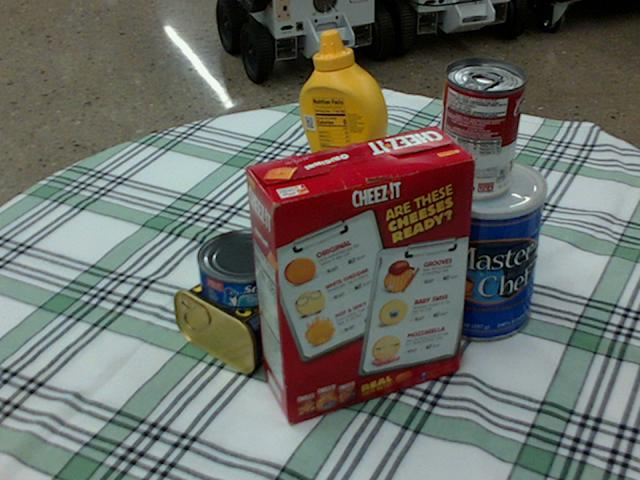cracker_box: (244, 126, 474, 423)
gelatin_box: (287, 176, 376, 245)
master_chef_can: (423, 154, 547, 340)
mug: (285, 213, 390, 331)
mustard_bottle: (298, 31, 400, 221)
potted_meat_can: (175, 258, 315, 373)
sugar_box: (348, 169, 512, 292)
tomato_soup_can: (435, 57, 524, 198)
tuna_fish_can: (197, 228, 293, 310)
